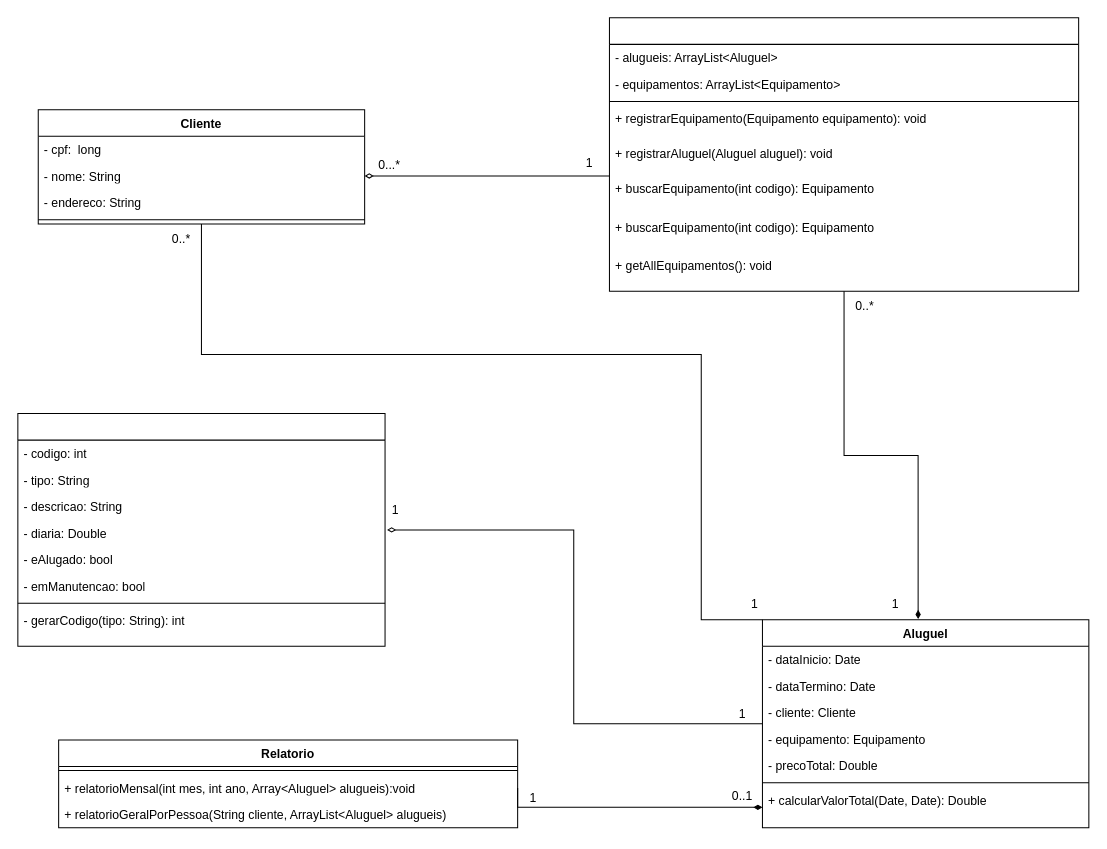
This 1107x849 diagram has some shape labels left out. Here are the shapes that lost their labels. From the top down, the box of each, then its label:
(608, 17, 1079, 291): Registro
(17, 413, 385, 646): Equipamento
